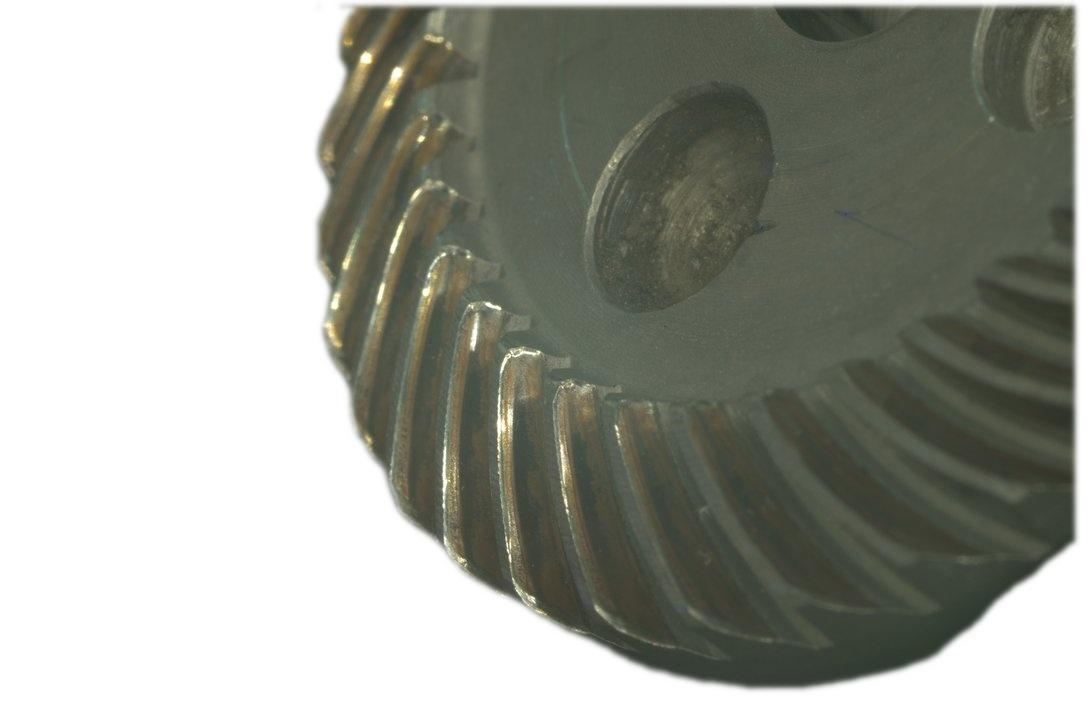defect: (606, 396, 755, 640), (684, 398, 844, 608), (752, 395, 933, 561), (326, 118, 436, 359), (314, 37, 429, 264), (349, 181, 442, 429), (551, 377, 633, 636), (386, 253, 463, 509), (491, 344, 540, 608), (441, 306, 487, 563), (318, 31, 394, 166), (334, 4, 404, 64)
